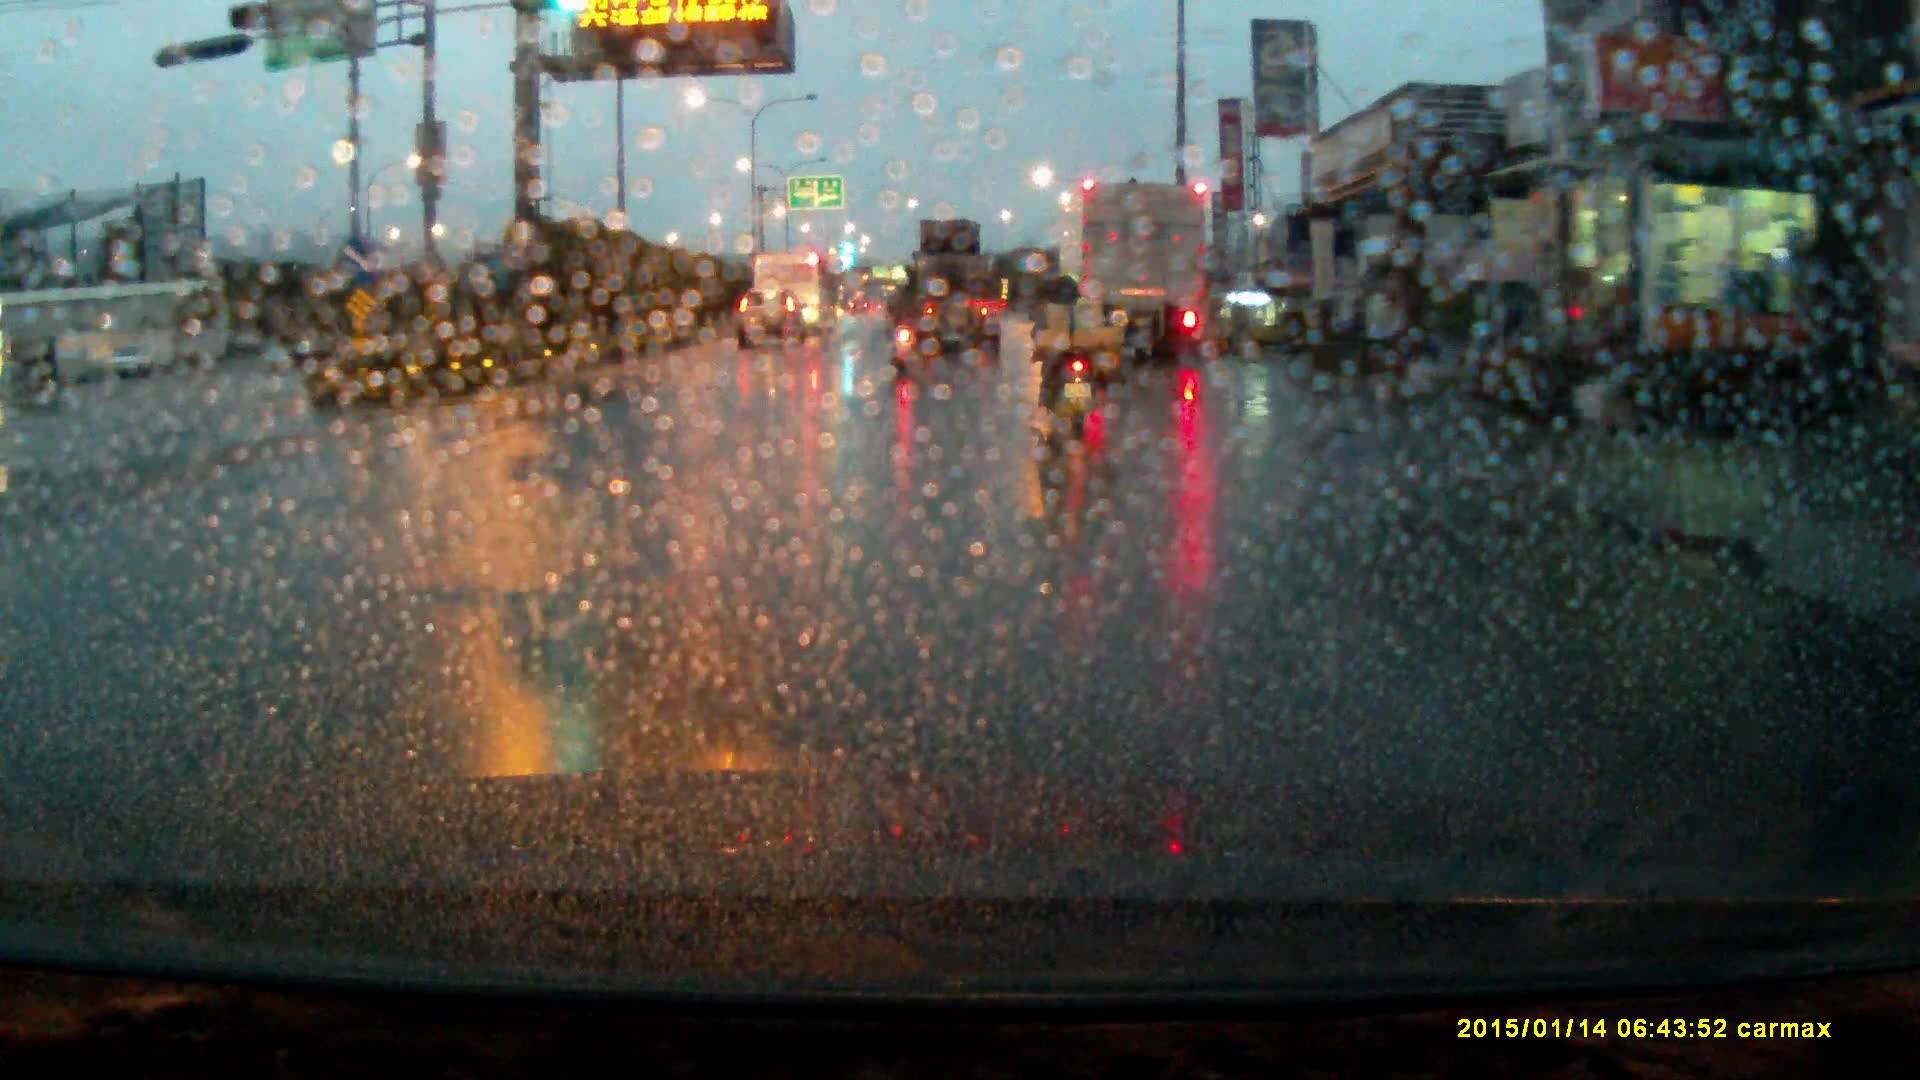rider: (1031, 265, 1113, 433), (890, 268, 928, 367)
vehicle: (1059, 182, 1216, 365), (899, 217, 1001, 358), (768, 244, 843, 327), (739, 285, 811, 351)
